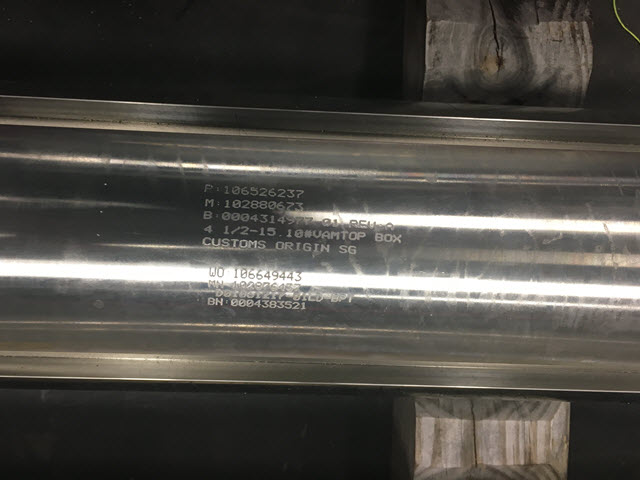character: (201, 209, 216, 222), (266, 225, 279, 238), (229, 224, 242, 237), (294, 187, 306, 201), (294, 199, 305, 214), (200, 235, 212, 248), (211, 234, 223, 247), (202, 183, 216, 194), (231, 183, 242, 197), (239, 223, 250, 237), (239, 184, 251, 196), (346, 230, 358, 242), (230, 210, 242, 222), (221, 182, 232, 195), (266, 185, 277, 198), (203, 197, 216, 208), (267, 198, 278, 211), (319, 241, 330, 254), (330, 229, 341, 242), (249, 225, 260, 238), (259, 212, 270, 225), (249, 185, 259, 199), (338, 242, 348, 256), (347, 243, 357, 257), (267, 211, 277, 225), (255, 266, 265, 280), (258, 199, 269, 211), (202, 223, 214, 234), (237, 238, 249, 249), (274, 239, 285, 251), (392, 231, 403, 243), (260, 298, 271, 310), (284, 199, 294, 212), (257, 238, 267, 251), (284, 239, 294, 252), (270, 268, 280, 281), (322, 227, 331, 241), (278, 213, 287, 227), (247, 266, 256, 280), (303, 228, 314, 239), (259, 185, 269, 197), (276, 187, 286, 199), (285, 187, 295, 199), (276, 200, 286, 212), (230, 236, 240, 248), (302, 241, 312, 253), (357, 229, 367, 241), (249, 210, 259, 222), (206, 296, 216, 308), (245, 297, 255, 309), (299, 299, 309, 311), (313, 227, 322, 240), (222, 223, 231, 236), (240, 266, 249, 279), (222, 235, 230, 249), (231, 198, 242, 208), (240, 199, 251, 209), (250, 198, 260, 209), (248, 238, 258, 249), (339, 229, 349, 240), (294, 228, 304, 239), (284, 228, 295, 238), (221, 211, 231, 222), (283, 298, 293, 309), (384, 232, 393, 244), (241, 211, 250, 223), (294, 270, 303, 282), (276, 298, 284, 311), (232, 266, 240, 279), (286, 269, 294, 282), (375, 231, 384, 242), (259, 226, 267, 238), (215, 294, 223, 306), (253, 297, 261, 309), (269, 298, 277, 310), (264, 269, 271, 282), (312, 242, 321, 252), (229, 298, 239, 307), (238, 298, 247, 308), (223, 198, 231, 209), (294, 240, 302, 251), (293, 300, 301, 311), (279, 270, 287, 281)
